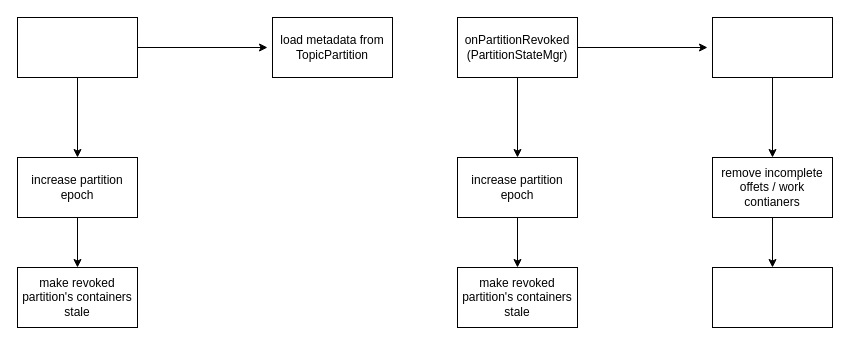
Some shapes in this 850 by 345 pixel diagram are drawn without their labels. The shapes that lost their labels are listed below. From the top down, each one's box as (x1, y1, x2, y2) in pixels, then its label:
(16, 16, 138, 78): onPartitionAssigned (PartitionStateMgr)
(712, 16, 832, 78): override with RemovePartitionState
(712, 266, 832, 328): remove shard if no work containers
